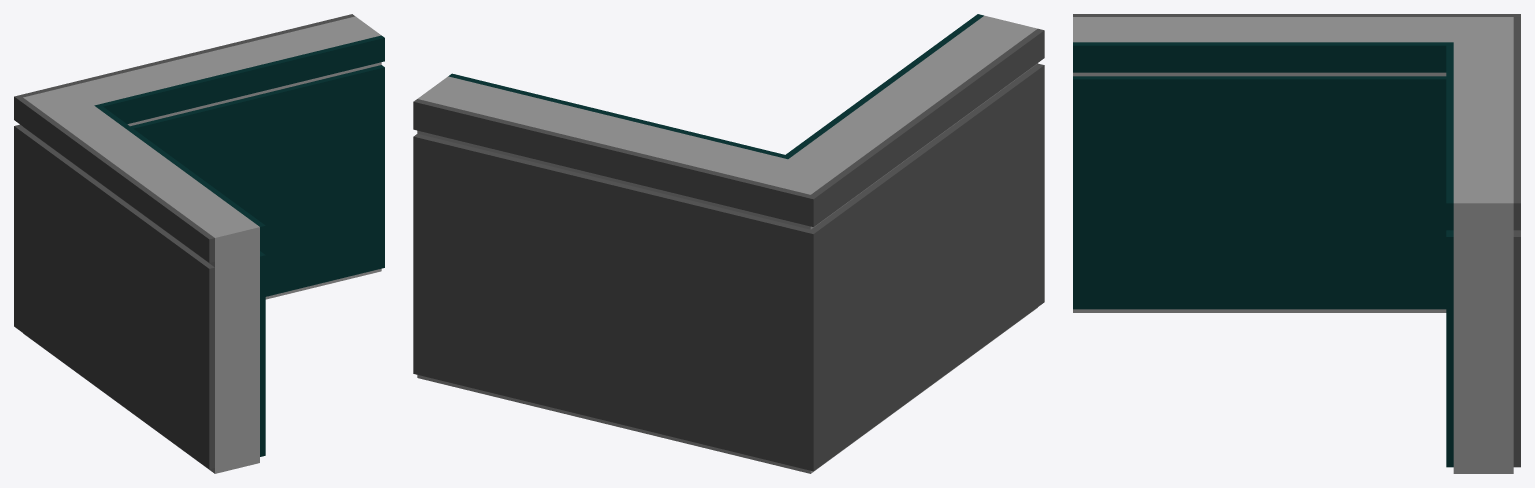
Rendered from Manufacturing Corner 3.obj.
The picture shows the model from 3 angles, left to right: view 1: azimuth 30°, elevation 25°; view 2: azimuth 150°, elevation 25°; view 3: azimuth 270°, elevation 25°; orthographic projection. The views are drawn at different scales.
Size of the model in its own units: 60 by 40 by 60.
Materials: 1 (1 with a texture image).
